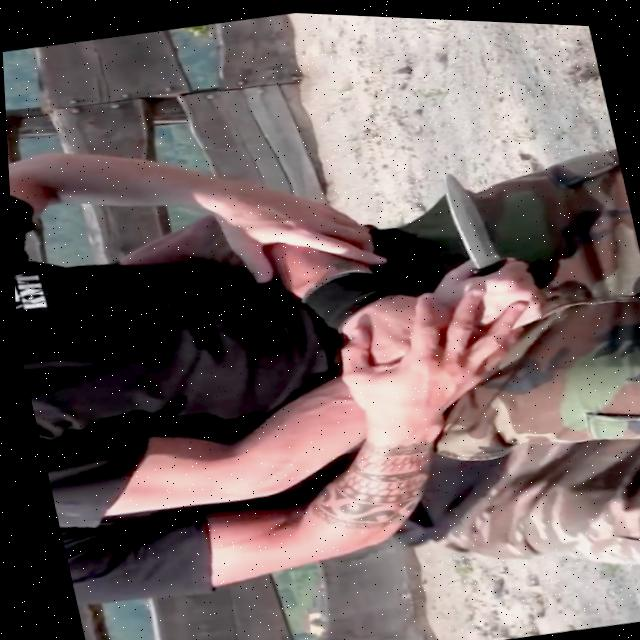knife: (438, 161, 509, 276)
